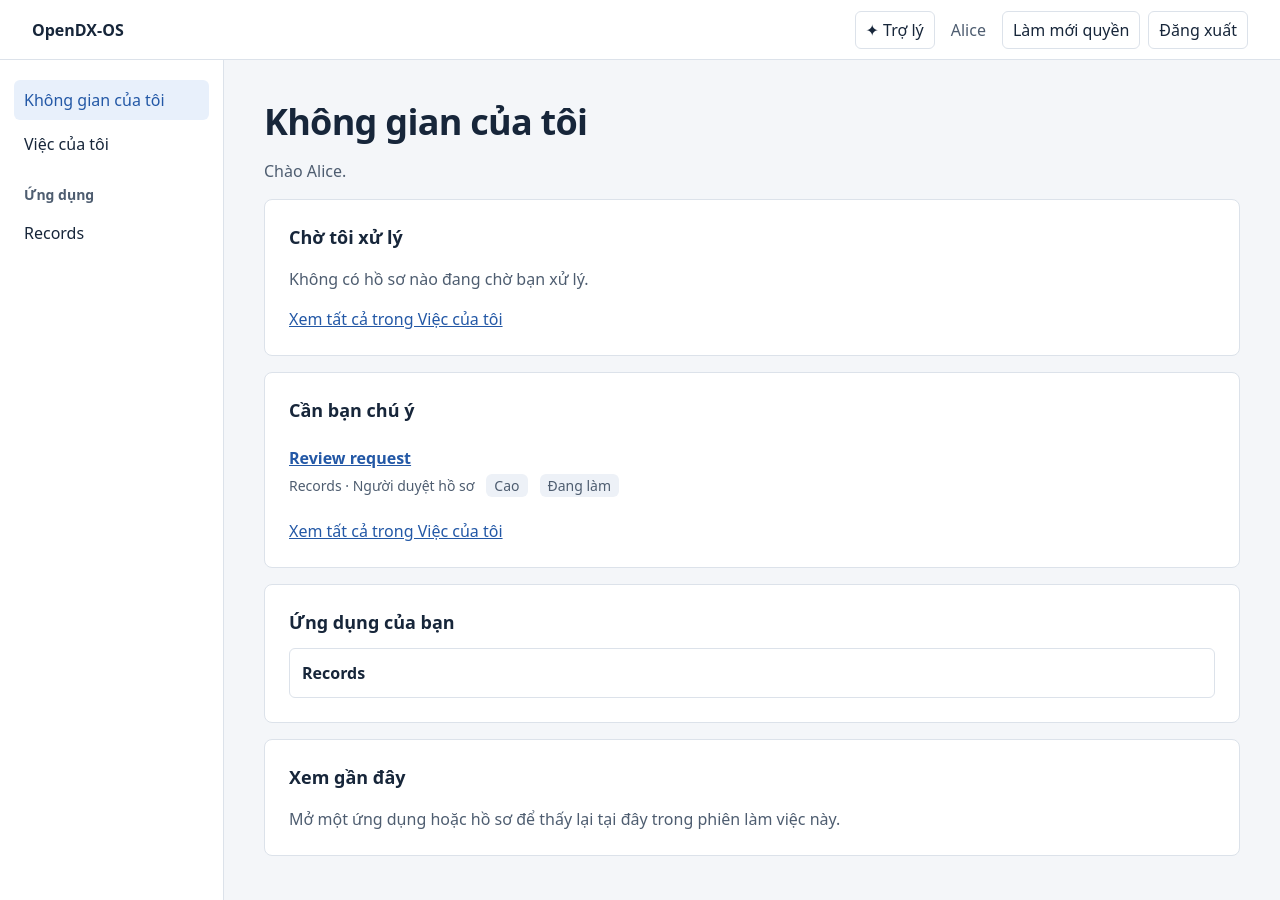
Scenario: refreshes permissions before opening work under its originating role and keeps an ephemeral recent link
Later steps or results of the test are not shown.
Expected: the text "Đang làm" is shown, [540,474,619,497]
Expected: the text "Người duyệt hồ sơ" is shown, [353,476,474,495]
Click the link "Review request" at coordinates (350, 458), box [289,447,411,469]
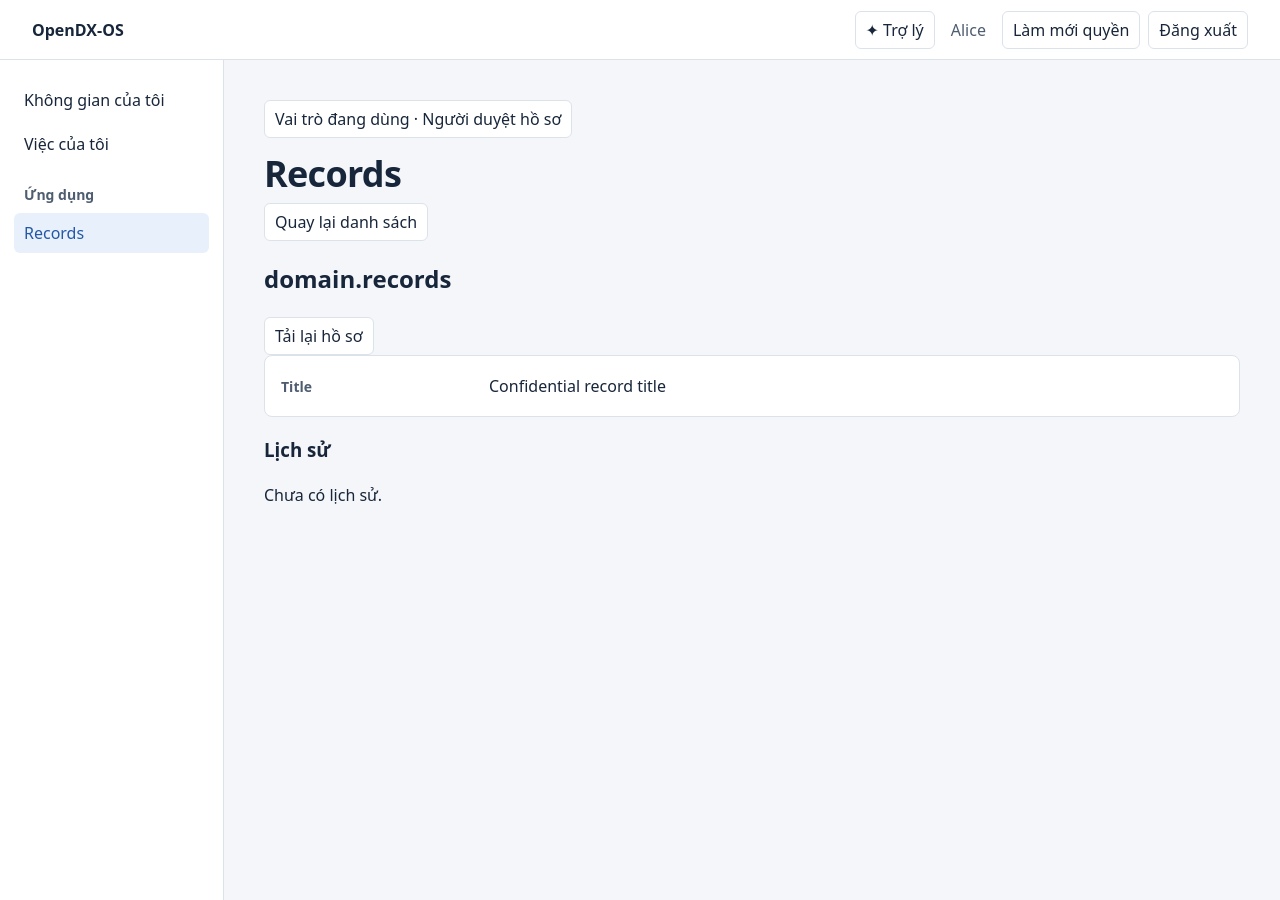
Expected: the text "Confidential record title" is shown, [489,375,666,397]
Click the link "Không gian của tôi" at coordinates (94, 100), box [24,89,165,111]
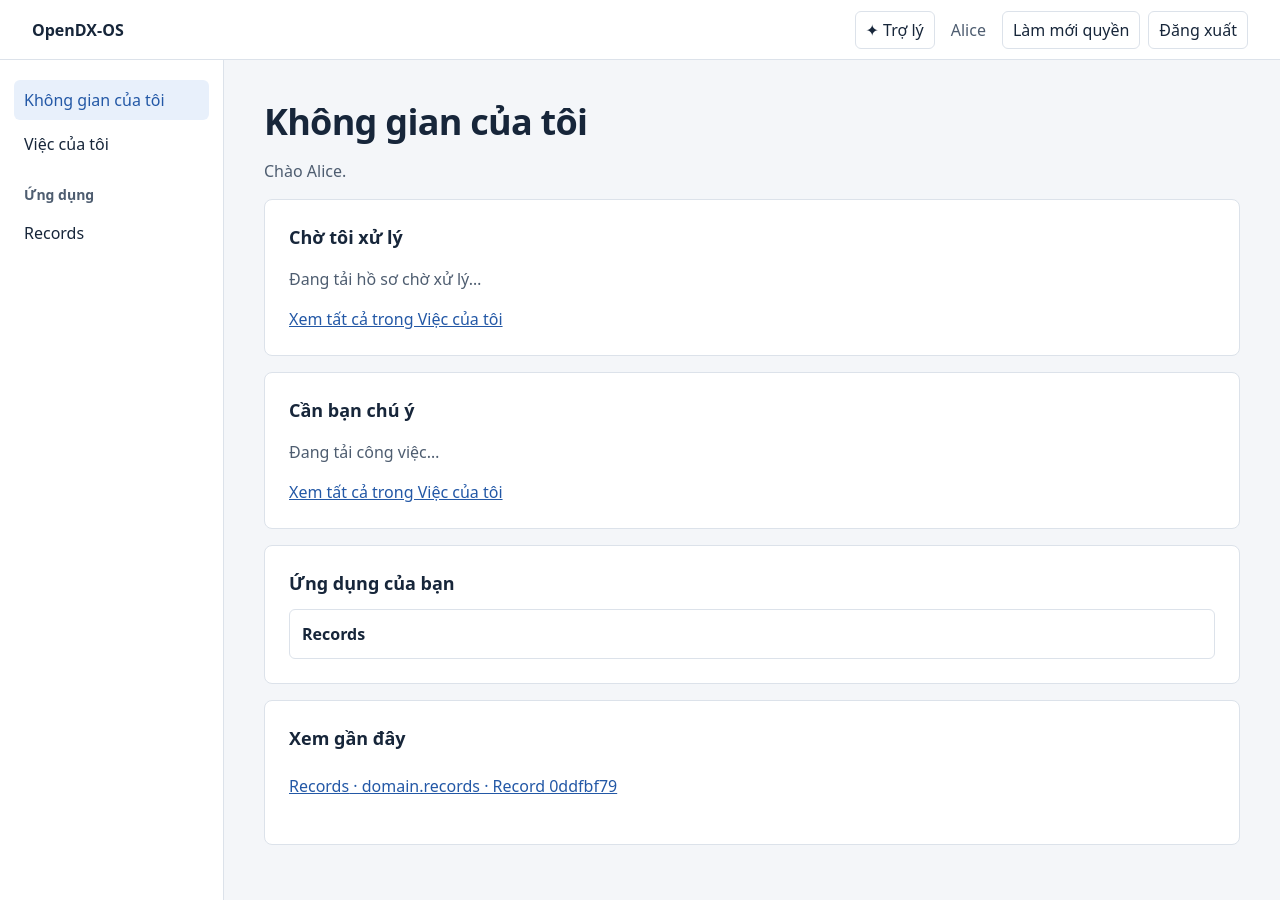
Expected: the text "Confidential record title" is gone
Click the link "Records · domain.records · Record 0ddfbf79" at coordinates (319, 786), box [289,775,617,797]
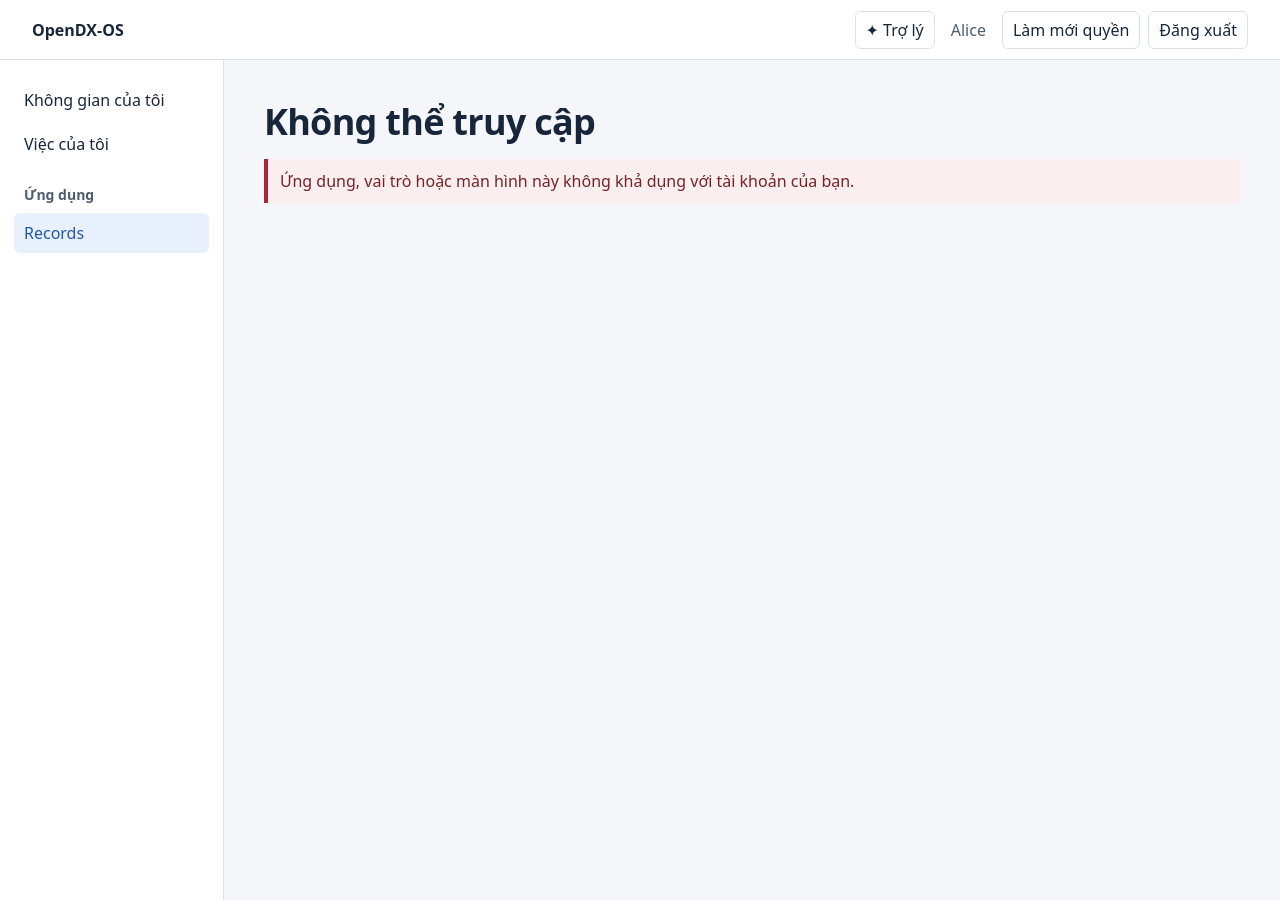
Expected: the heading "Không thể truy cập" is shown, [264,97,595,146]
